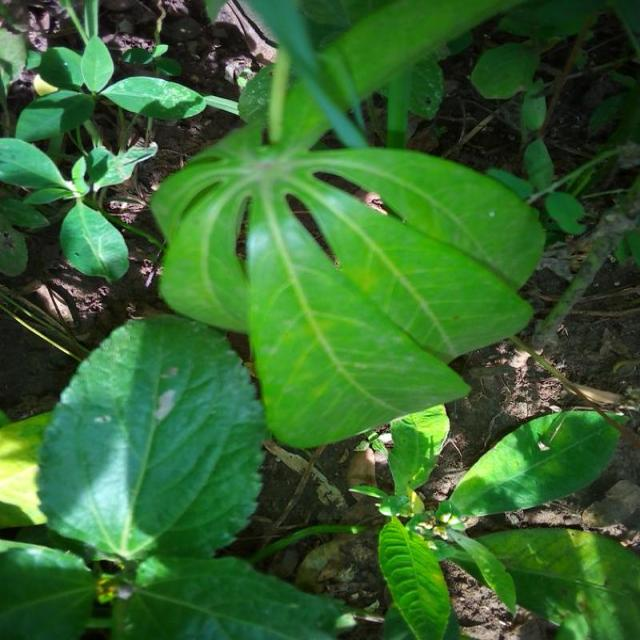cassava leaf: (149, 59, 546, 447), (245, 182, 472, 448), (36, 312, 269, 564), (447, 406, 627, 518)
